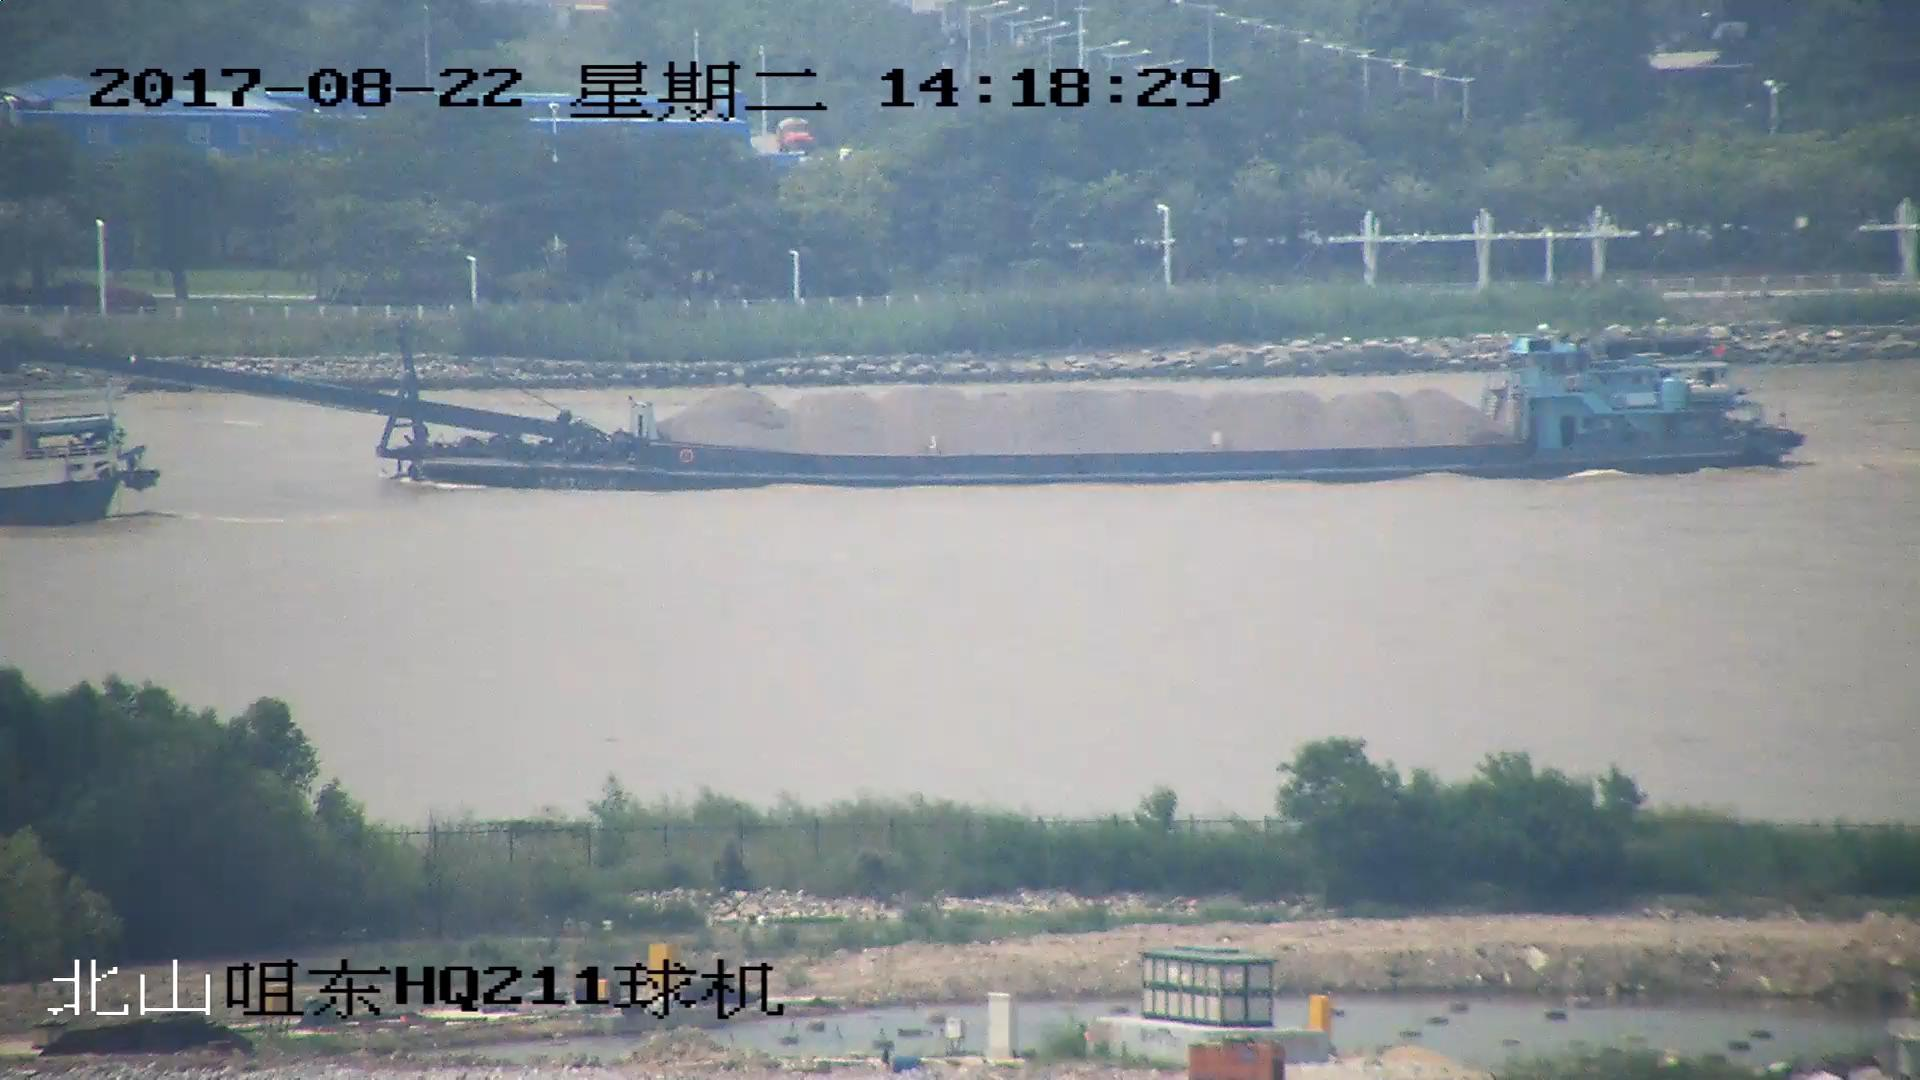Ship: (3, 323, 1811, 489), (3, 401, 166, 525)
